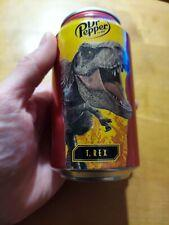metal: (52, 10, 140, 182)
